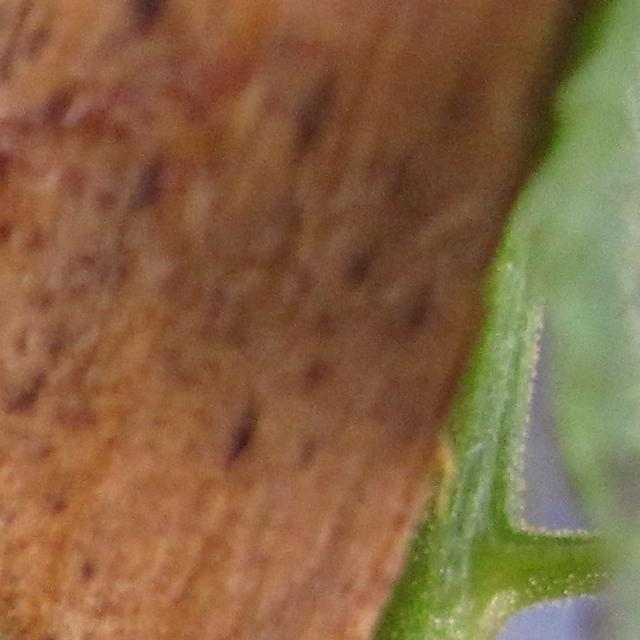Tomato leaf late blight: (0, 405, 481, 640)
